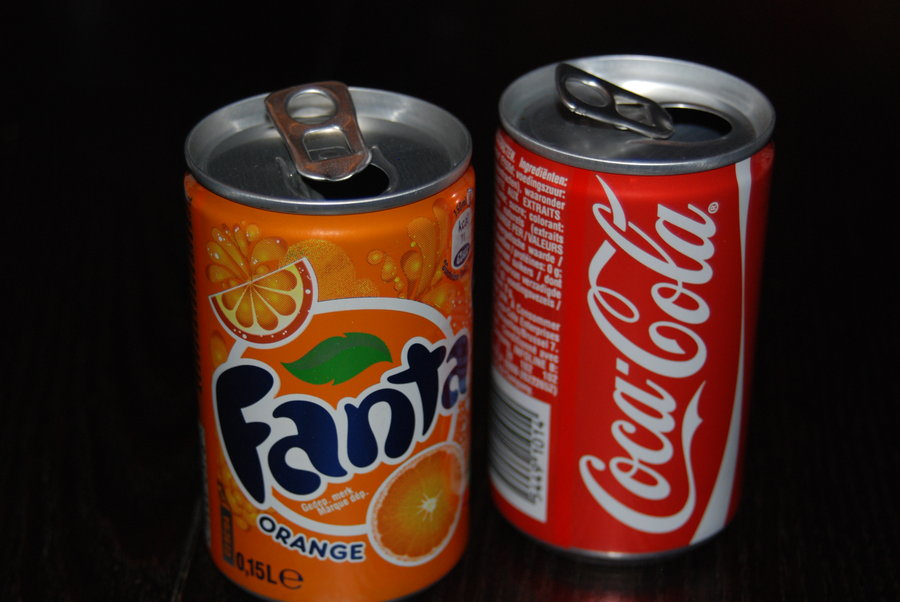fanta: (186, 114, 479, 599)
